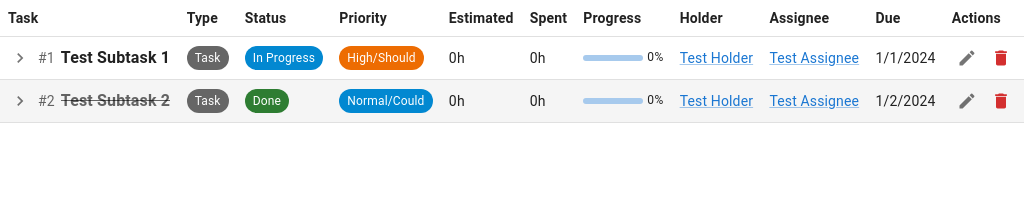
Test case: SubtaskList › fetches and shows nested subtasks when expand is clicked
This screenshot has width=1024, height=213.
What coordinates should you click on to do the following:
click the button named "expand subtasks" in the row of "Test Subtask 1"
I would click on:
 (20, 58)
Its box is [8,46,32,70].
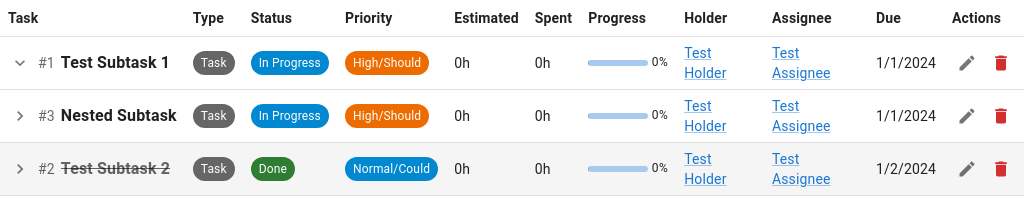
Expected: the text "Nested Subtask" is shown, [61,104,177,128]
